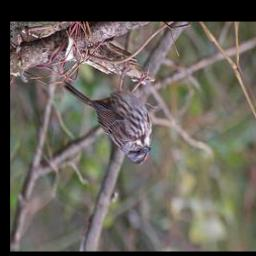Sparrow: (62, 66, 153, 166)
